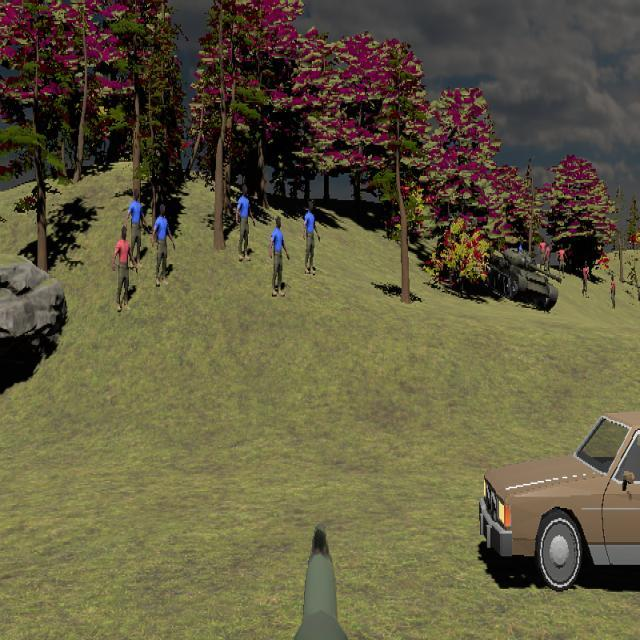Human: (123, 187, 149, 270), (113, 225, 137, 313), (123, 188, 149, 269), (153, 204, 175, 286), (270, 214, 289, 298), (270, 216, 289, 298), (236, 183, 255, 261), (303, 200, 320, 275)
Tank: (486, 248, 560, 312)
car: (478, 409, 640, 590)
